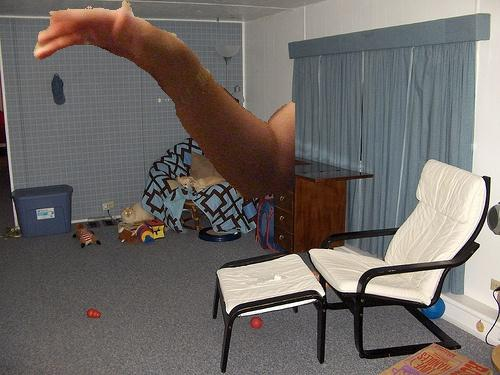tampered: (34, 1, 295, 200)
